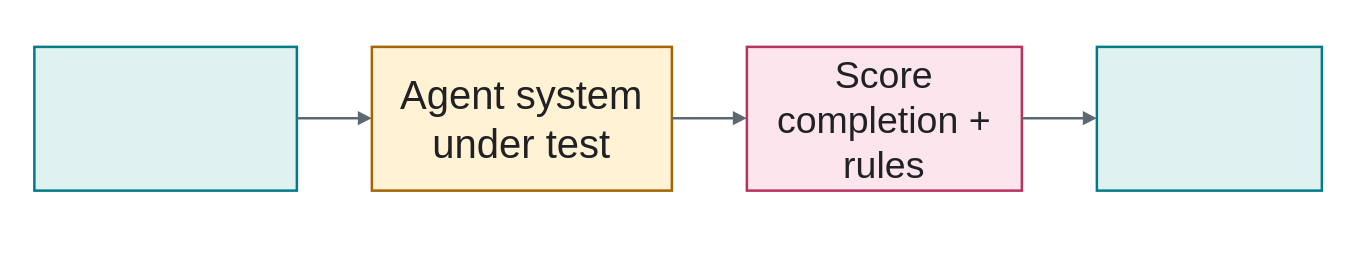
This 1355x255 diagram has some shape labels left out. Here are the shapes that lost their labels. From the top down, the box of each, then its label:
(32, 45, 298, 191): Fixed tasks + requirements
(1095, 45, 1322, 191): Report scores + traces
